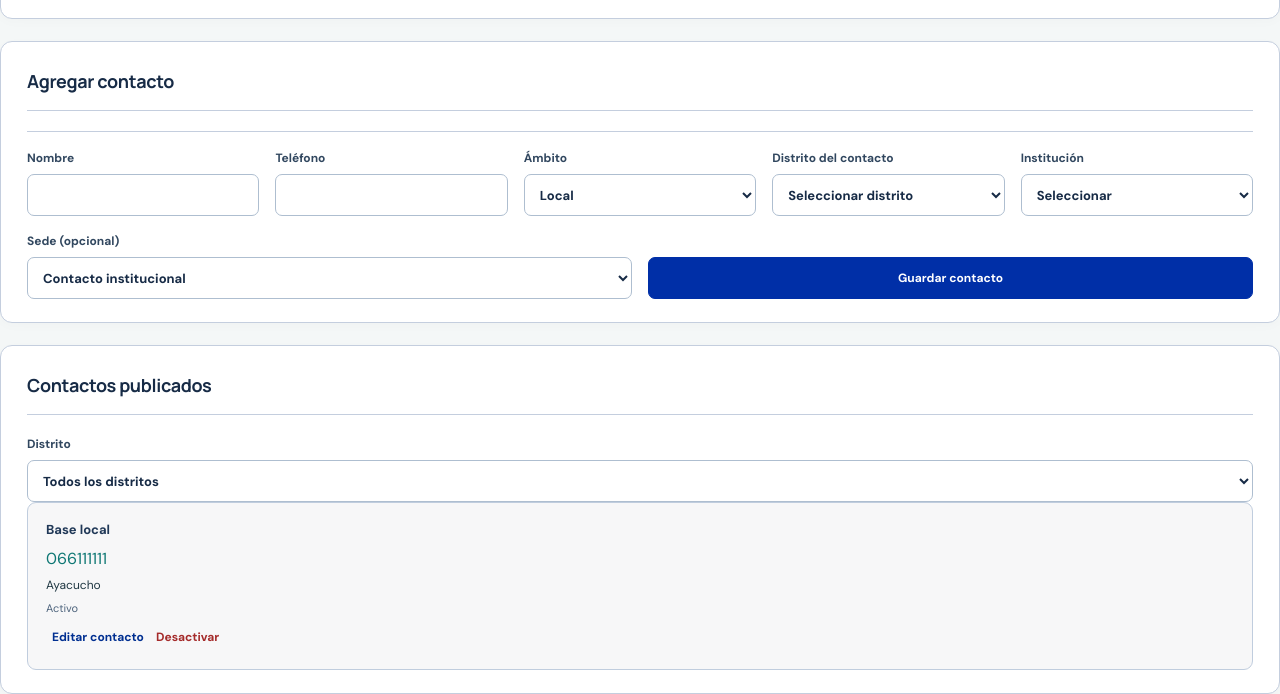
Scenario: contactos permiten corregir los datos publicados desde el formulario
(page scrolled)
Click the button "Editar contacto": (98,637) [46,623,150,651]
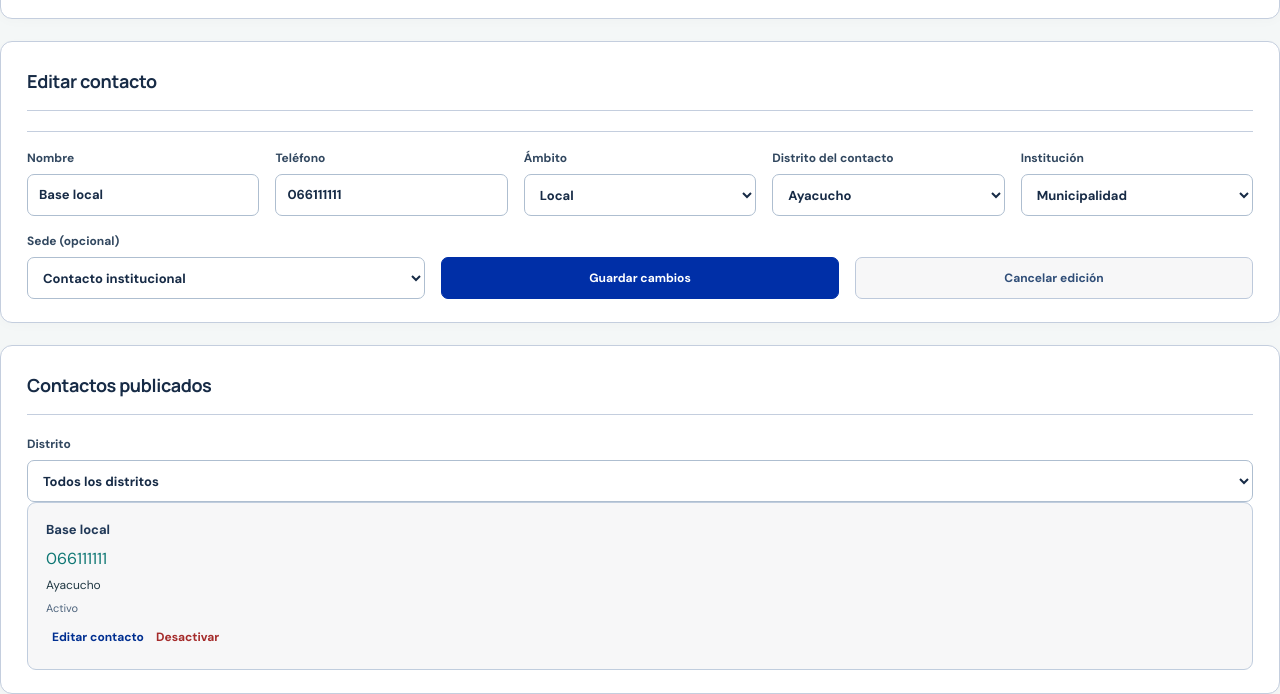
Replace the text in the field labelled "Teléfono" with "066333333": (392,195) [275,174,508,216]
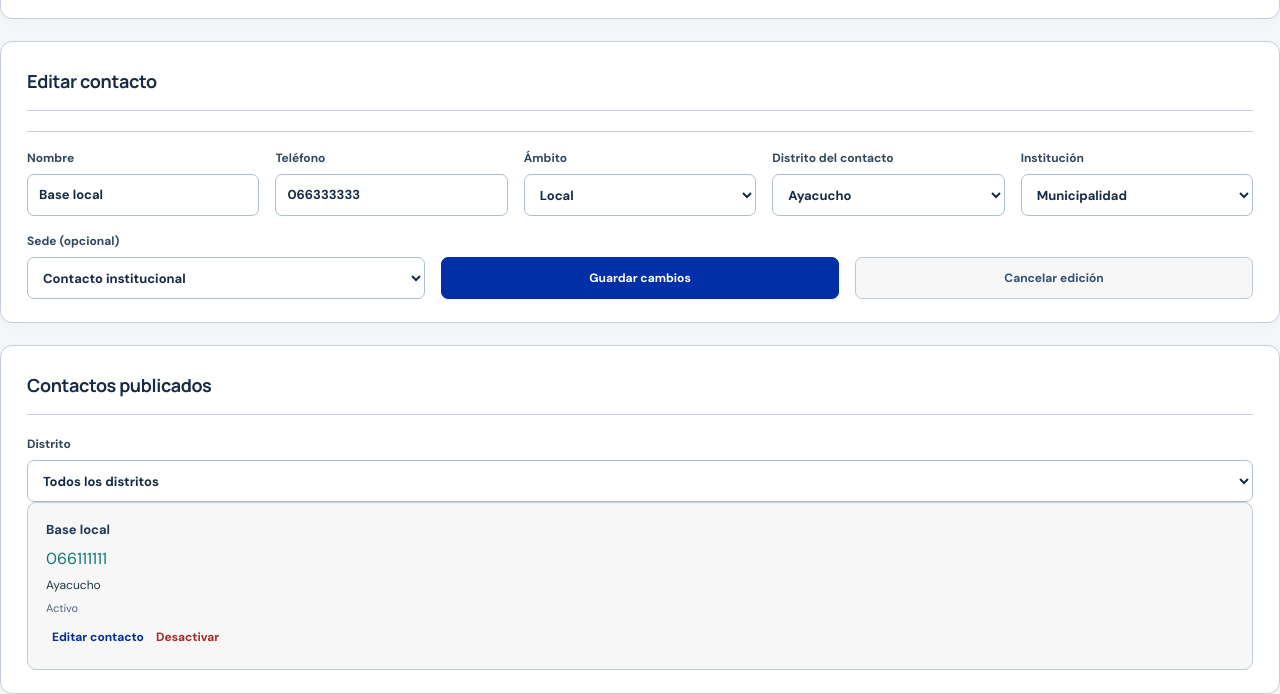
Click the button "Guardar cambios": (640,278) [441,257,839,299]
(page scrolled)
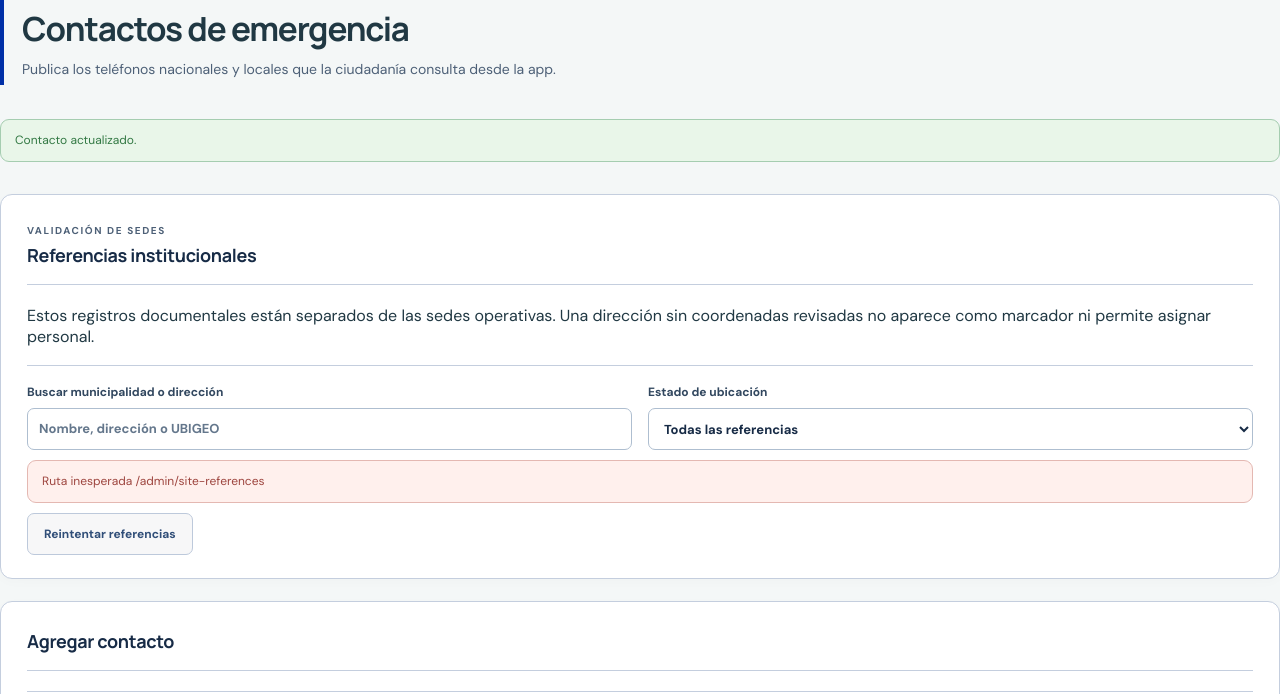
Check: the text "Contacto actualizado." is shown, box [0,119,1279,162]
